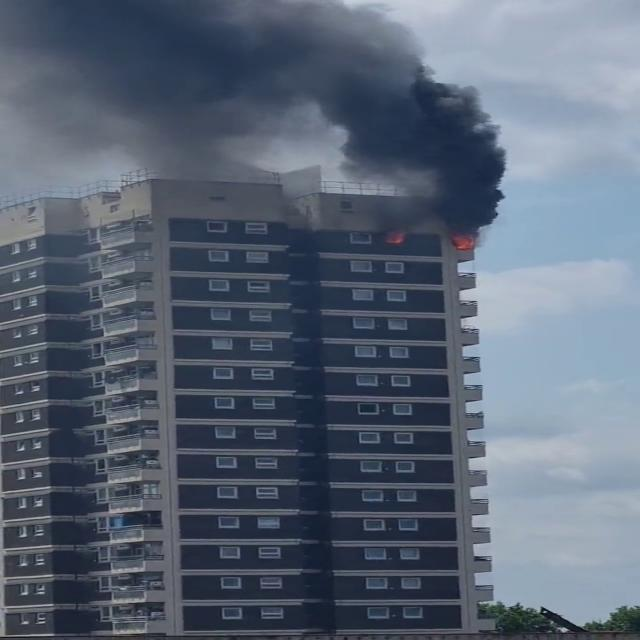Smoke: (11, 0, 504, 242)
